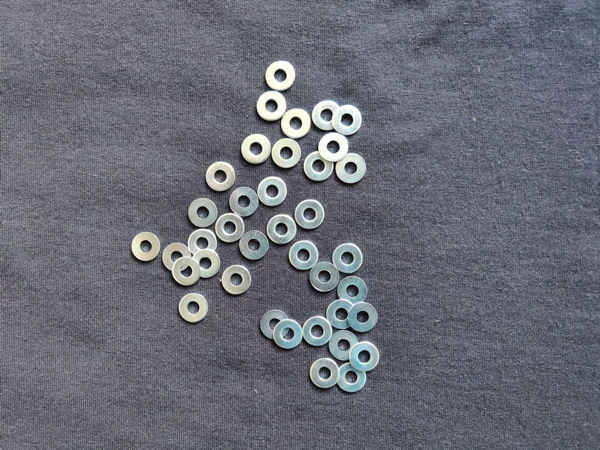circle: (203, 161, 240, 194), (264, 59, 301, 91), (324, 298, 359, 331), (334, 361, 371, 392), (130, 230, 162, 265), (220, 263, 253, 296), (307, 261, 340, 294), (187, 197, 220, 230), (347, 341, 381, 373), (304, 148, 335, 183), (214, 212, 246, 245), (318, 131, 351, 163), (255, 91, 288, 123), (273, 318, 304, 352), (336, 275, 370, 306), (240, 228, 271, 262), (178, 292, 210, 324), (255, 175, 287, 207), (240, 133, 272, 165), (335, 152, 367, 184), (332, 103, 364, 135), (259, 308, 290, 341), (329, 331, 362, 362), (332, 243, 364, 274), (289, 241, 321, 272), (266, 213, 298, 244), (295, 199, 327, 230), (170, 257, 202, 288), (271, 138, 302, 170), (281, 107, 312, 138), (303, 315, 333, 347), (190, 252, 222, 282), (188, 228, 220, 258), (229, 187, 259, 219), (312, 99, 342, 131), (161, 242, 192, 272), (310, 359, 342, 388), (349, 303, 380, 332)
